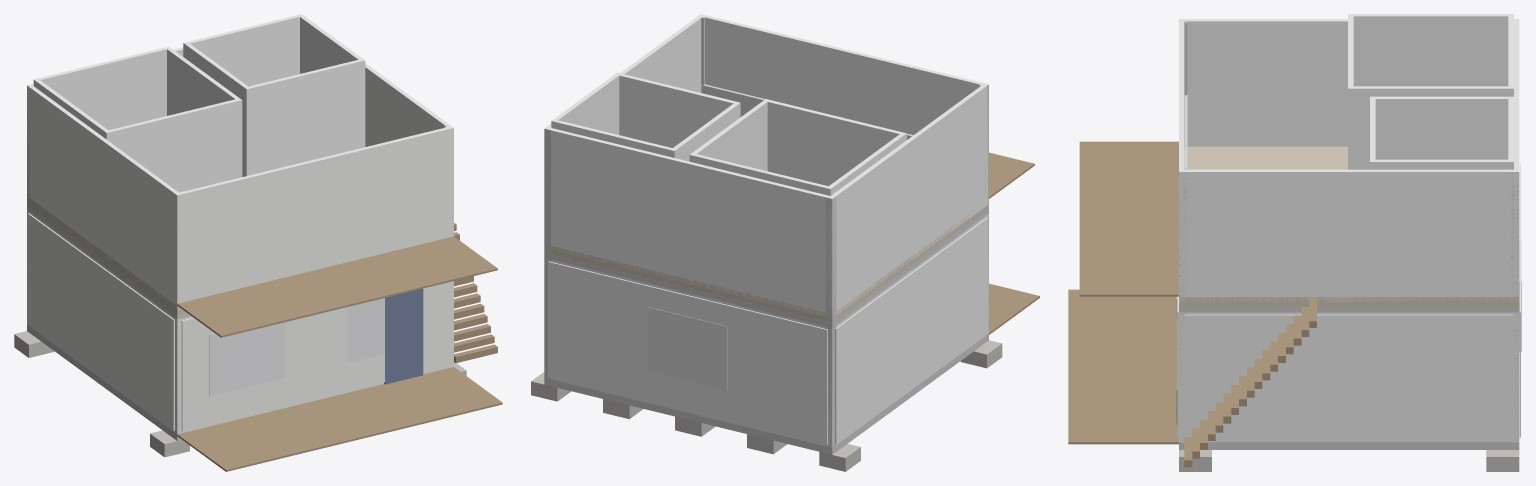
Rendered from Duplex-20-Premium+TerraceDeck-LOD2.glb.
3 renders of one model, left to right at view 1: azimuth 30°, elevation 25°; view 2: azimuth 150°, elevation 25°; view 3: azimuth 270°, elevation 25°, orthographic. The views are drawn at different scales.
Visible parts, largest first — view 1: ExteriorShellUpper, ExteriorPanelsPremium, StudyUpper, BedroomUpper, BalconyUpper, BalconyGround, TerraceDeck, WindowsLargeUpgrade, EntryDoor, StaircaseExternal, ExteriorShell, FloorUpper (+3 smaller); view 2: ExteriorShellUpper, ExteriorPanelsPremium, BedroomUpper, StudyUpper, WindowsLargeUpgrade, VerticalStructure, FloorUpper, FoundationBlocks, BaseFrame, ExteriorShell, TopFrame, TerraceDeck (+2 smaller); view 3: ExteriorShellUpper, ExteriorPanelsPremium, TerraceDeck, BalconyUpper, BedroomUpper, StudyUpper, FloorUpper, BalconyGround, StaircaseExternal, ExteriorShell, BaseFrame, TopFrame (+2 smaller).
Boxes of the visible parts, x1,y1,x2,y2 form: ExteriorShellUpper: (27,47,453,310); ExteriorPanelsPremium: (28,213,450,431); StudyUpper: (183,14,365,176); BedroomUpper: (33,46,242,191); BalconyUpper: (177,236,497,337); BalconyGround: (178,367,453,462); TerraceDeck: (177,367,502,471); WindowsLargeUpgrade: (209,288,423,396); EntryDoor: (384,288,423,384); StaircaseExternal: (454,223,497,363); ExteriorShell: (27,209,453,434); FloorUpper: (27,196,186,314); ExteriorShellUpper: (544,14,988,317); ExteriorPanelsPremium: (548,217,987,444); BedroomUpper: (689,99,906,195); StudyUpper: (551,72,740,161); WindowsLargeUpgrade: (647,307,727,390); VerticalStructure: (544,17,988,447); FloorUpper: (544,205,987,322); FoundationBlocks: (531,340,1002,471); BaseFrame: (544,333,988,454); ExteriorShell: (551,214,988,447); TopFrame: (551,212,985,326); TerraceDeck: (989,283,1039,334); ExteriorShellUpper: (1179,19,1519,302); ExteriorPanelsPremium: (1177,164,1520,440); TerraceDeck: (1068,289,1178,444); BalconyUpper: (1079,141,1178,296); BedroomUpper: (1348,14,1513,169); StudyUpper: (1370,96,1513,169); FloorUpper: (1179,146,1519,307); BalconyGround: (1096,296,1178,444); StaircaseExternal: (1184,298,1316,467); ExteriorShell: (1179,312,1519,442); BaseFrame: (1179,442,1519,449); TopFrame: (1179,307,1519,312).
Size of the model in its own units: 7.94 by 6 by 8.2.
